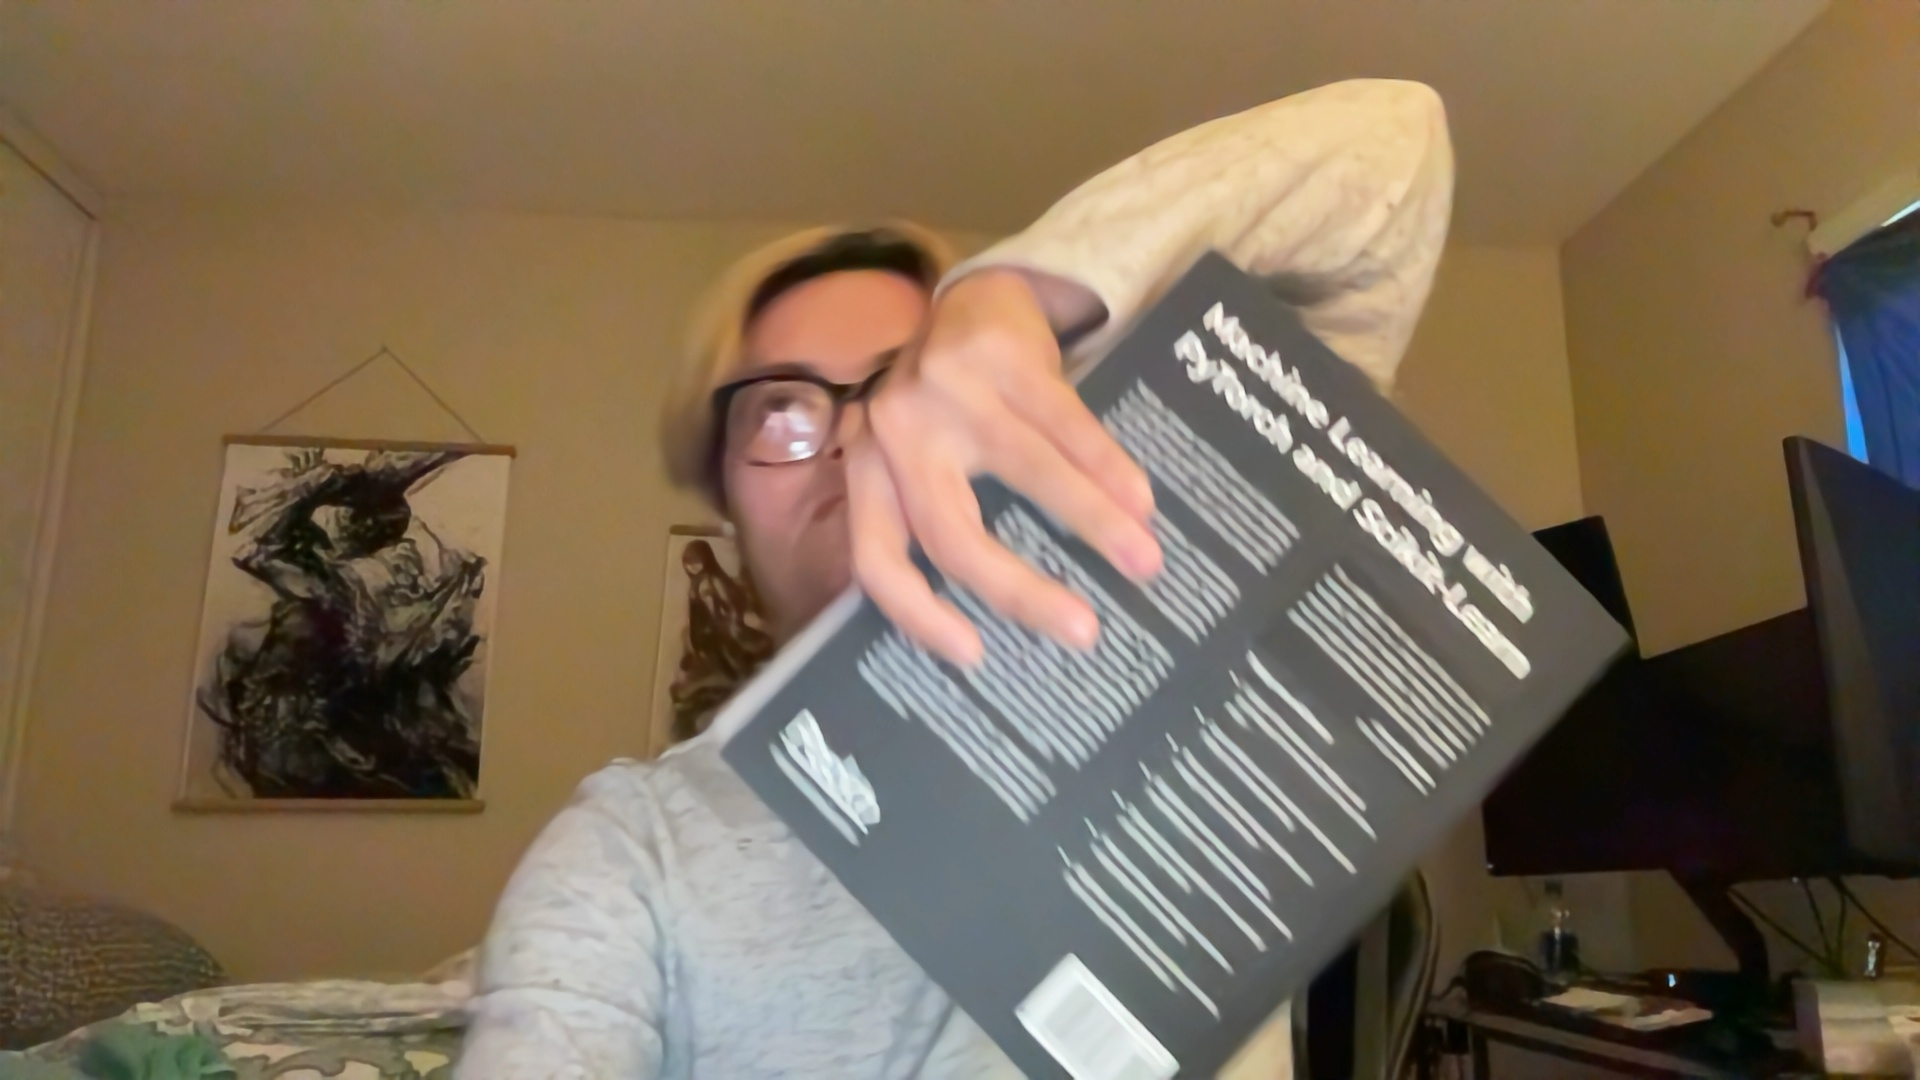book: (709, 240, 1644, 1072)
